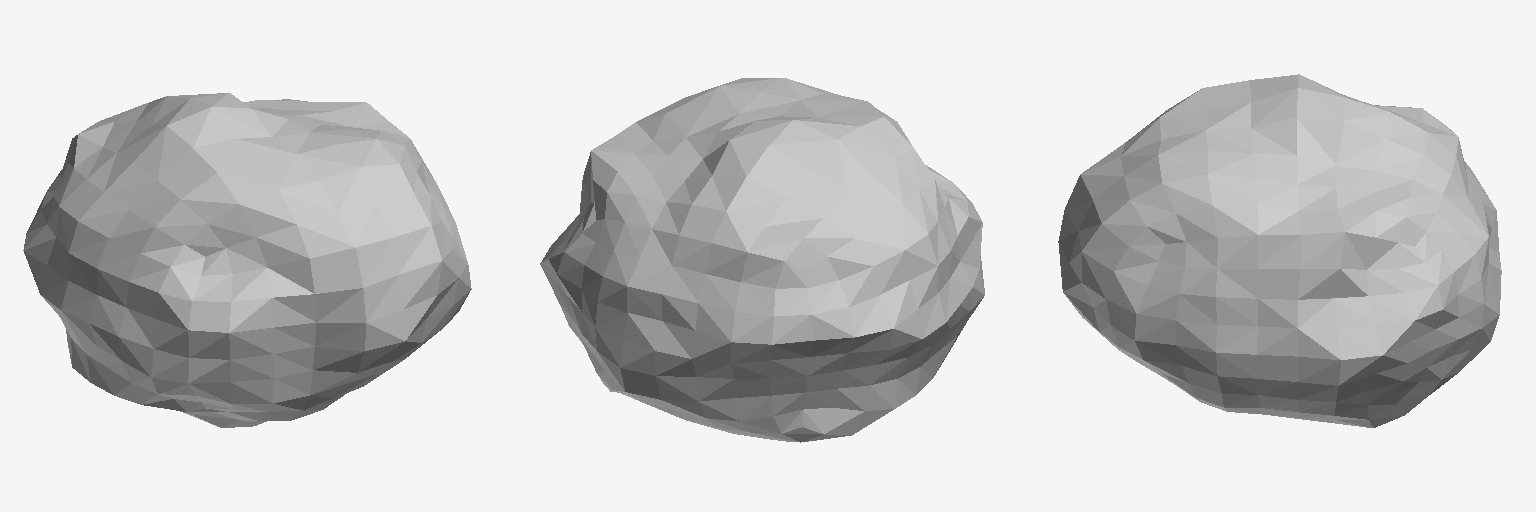
Rendered from stone2.obj.
3 views of the same model, side by side, from view 1: azimuth 30°, elevation 25°; view 2: azimuth 150°, elevation 25°; view 3: azimuth 270°, elevation 25° (orthographic).
Parts seen in each view (by area): view 1: Cube_Cube.005; view 2: Cube_Cube.005; view 3: Cube_Cube.005.
Part boxes in pixels (x1,y1,x2,y2): Cube_Cube.005: (23, 93, 471, 427); Cube_Cube.005: (540, 78, 984, 442); Cube_Cube.005: (1058, 74, 1501, 427).
Bounding box in the file's own units: 1.94 × 1.5 × 1.99.